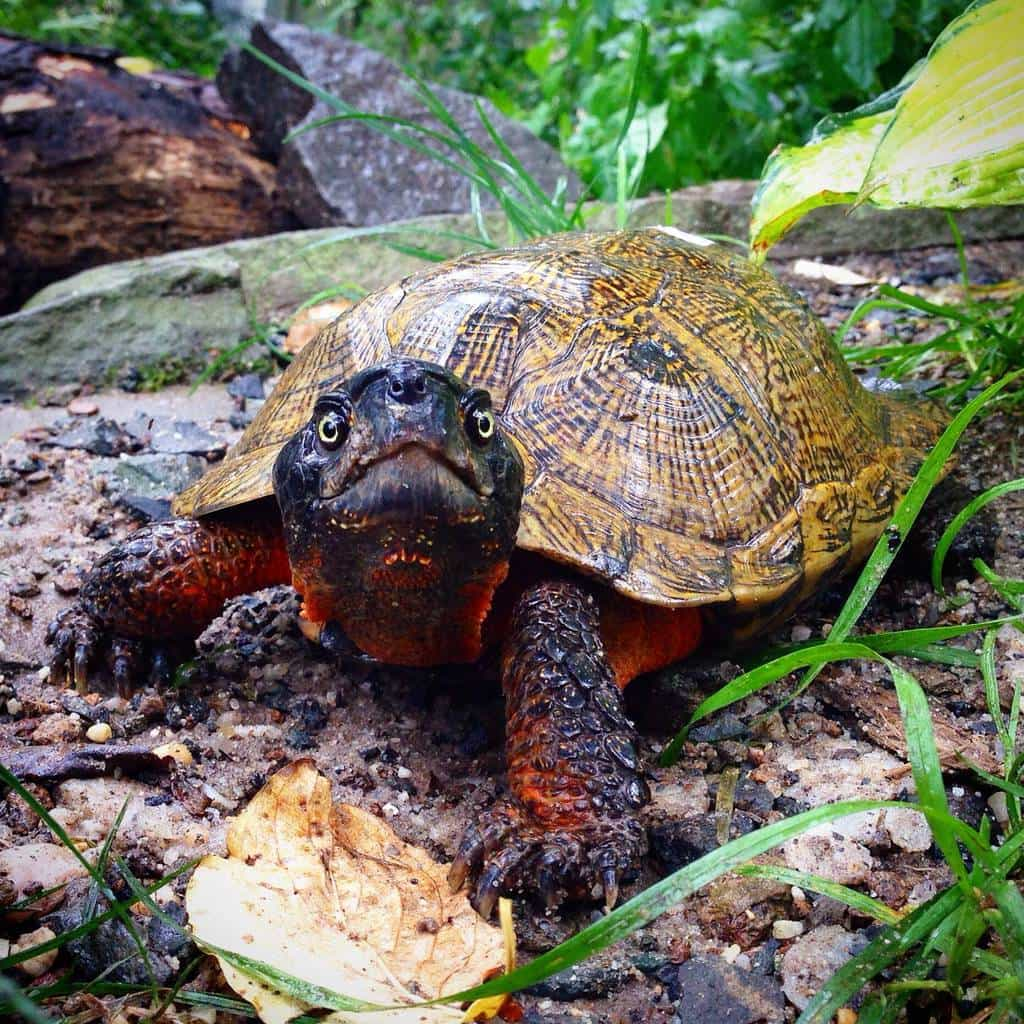eye: (457, 384, 512, 455), (307, 396, 355, 452)
mouth: (304, 431, 518, 530)
